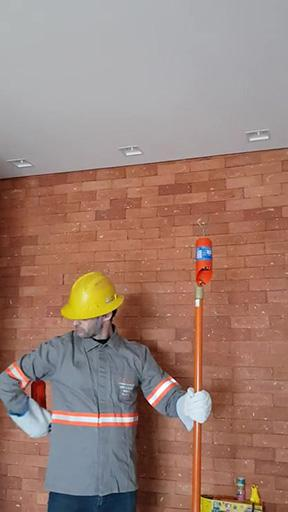Detector_Tensao_Contato: (193, 225, 215, 287)
Vara_Manobra: (191, 284, 205, 512)
